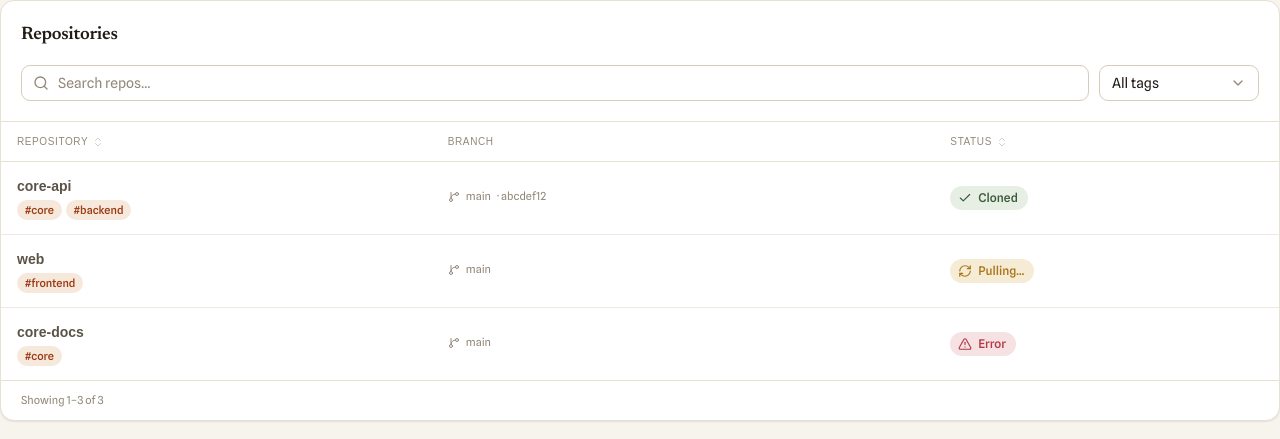
Test case: WorkspaceClient filter island (Flow E) › search="core" shows core-api + core-docs, not web
Type "core" into the search field labelled "Search repos" at [555, 83], box 21,65 -> 1089,101
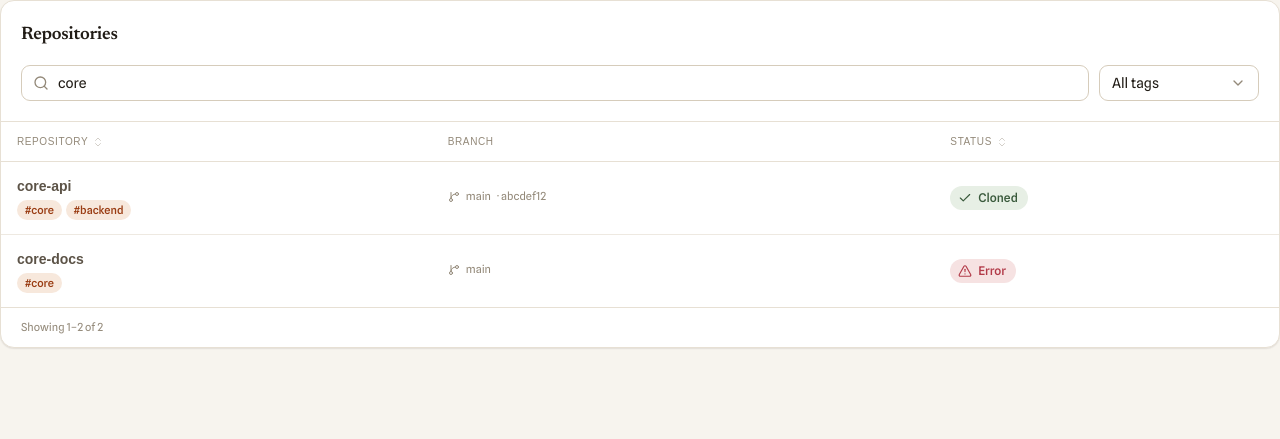
Expected: the text "core-api" is shown, 17,178 -> 72,194
Expected: the text "web" is gone
